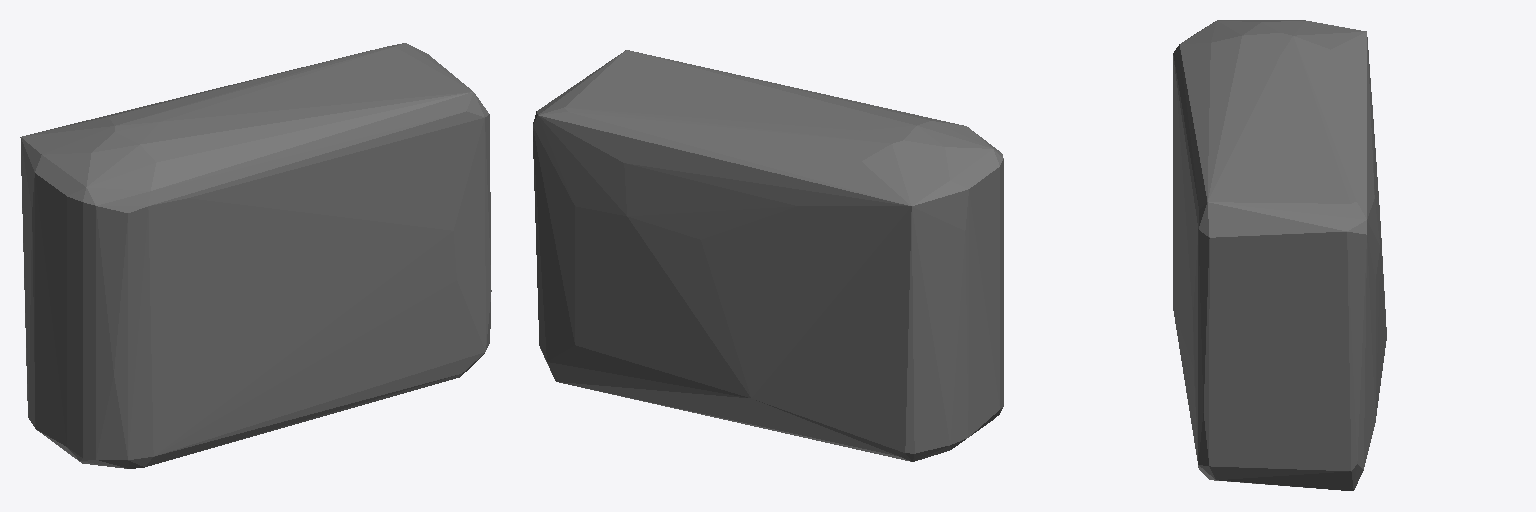
URDF robot description (camera_014):
<?xml version="1.0" ?>
<robot name="camera_014">
  <material name="color">
    <color rgba=".5 .5 .5 1"/>
  </material>

  <link name="base_link">
    <contact>
      <lateral_friction value="1.0"/>
      <rolling_friction value="0.001"/>
      <spinning_friction value="0.001"/>
      <inertia_scaling value="1.0"/>
    </contact>
    <inertial>
      <origin rpy="0 0 0" xyz="0.00124224 0.000234961 -0.00192671"/>
       <mass value="0.1"/>
       <inertia ixx="1" ixy="0" ixz="0" iyy="1" iyz="0" izz="1"/>
    </inertial>

    <visual>
      <origin rpy="0 0 0" xyz="0 0 0"/>
      <geometry>
        <mesh filename="camera_014_vhacd_0_of_1.obj" scale="1 1 1"/>
      </geometry>
      <material name="color"/>
    </visual>

    <collision>
      <origin rpy="0 0 0" xyz="0 0 0"/>
      <geometry>
        <mesh filename="camera_014_vhacd_0_of_1.obj" scale="1 1 1"/>
      </geometry>
    </collision>

  </link>
</robot>

--- Render facts (derived) ---
Views: 3 orthographic renders of the robot side by side, from view 1: azimuth 30°, elevation 25°; view 2: azimuth 150°, elevation 25°; view 3: azimuth 270°, elevation 25°.
Robot: camera_014 — 1 links, 0 joints (none); root link base_link; default pose: all joints at 0.
Visible links, largest first — view 1: base_link; view 2: base_link; view 3: base_link.
Boxes of the visible links, x1,y1,x2,y2 form: base_link: (20, 43, 491, 468); base_link: (533, 50, 1003, 461); base_link: (1173, 20, 1386, 490).
Size in the robot's own frame: 0.14 by 0.0618 by 0.096 metres.
Meshes: 1 distinct files referenced, 1 mesh visuals loaded (1 OBJ).